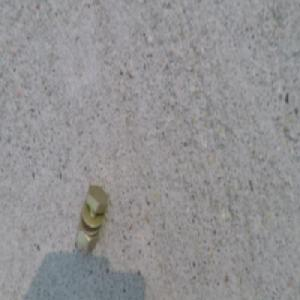BoltNutSet: (75, 182, 108, 254)
